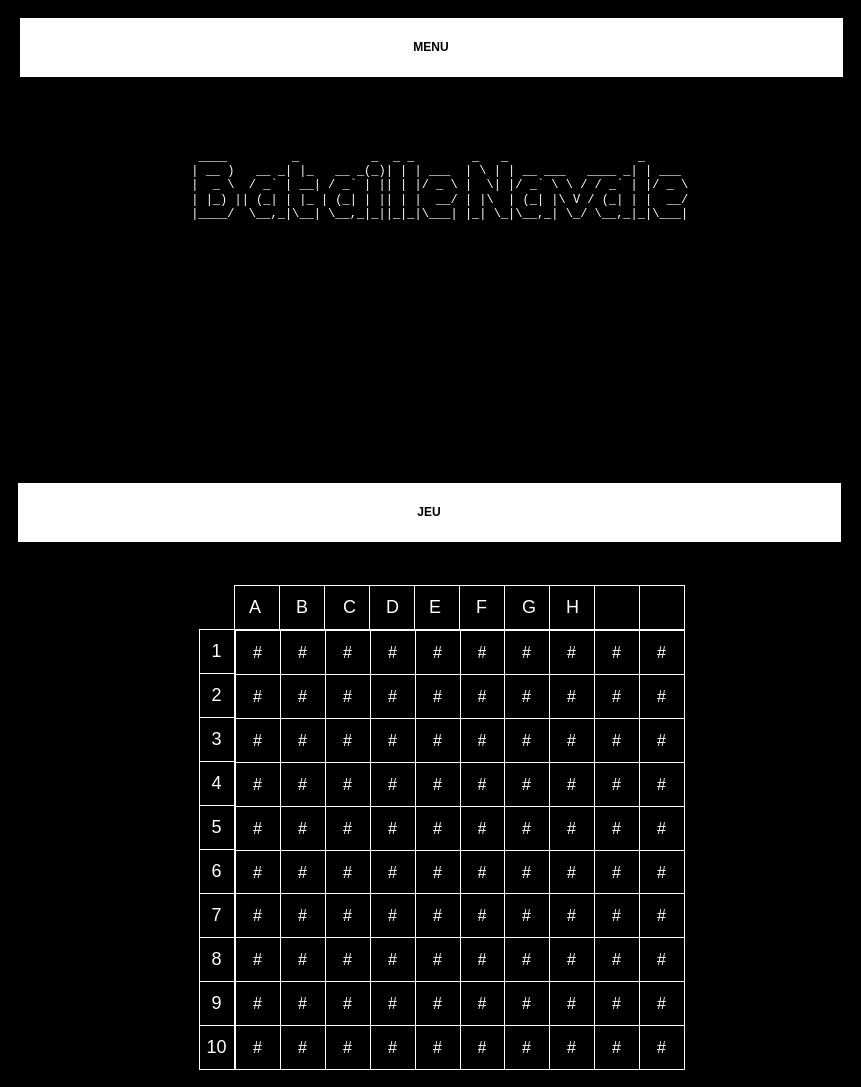
This 861x1087 diagram has some shape labels left out. Each missing label, with the centre of its shape:
"by Joshua MENU PRINCIPAL Jouer [1] Scores [2] Règles [3] Options [4] Quitter [5]" goes at point 385,281.
"I J" goes at point 639,607.
